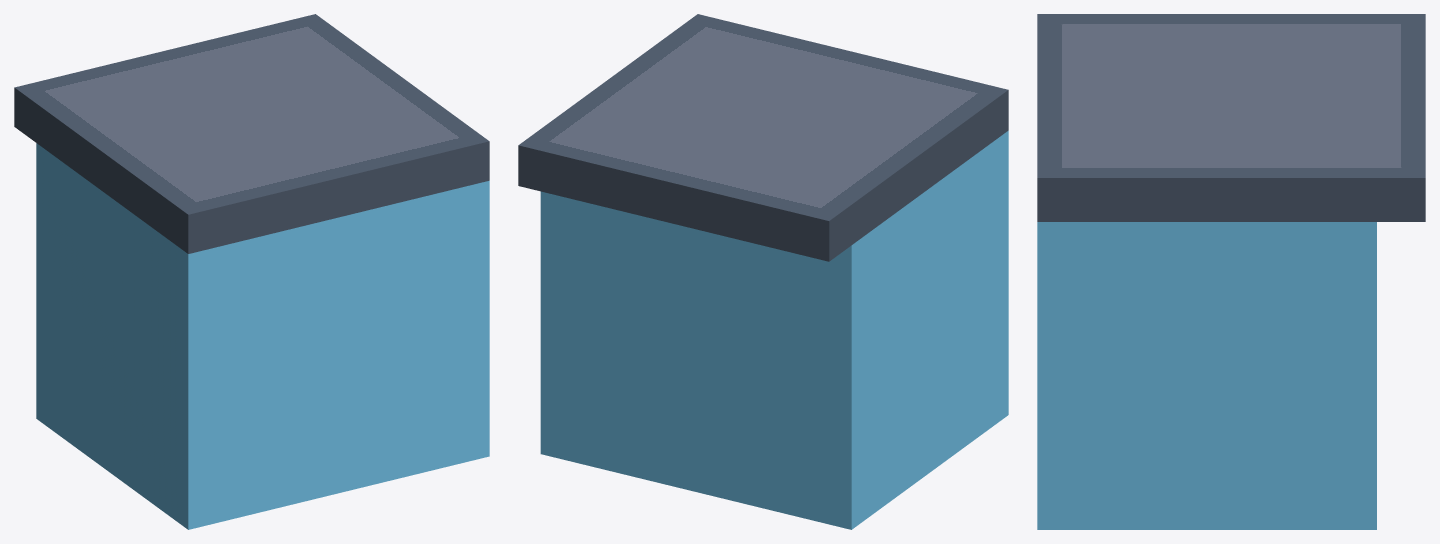
The model's file is counter.gltf.
The picture shows the model from 3 angles, left to right: view 1: azimuth 30°, elevation 25°; view 2: azimuth 150°, elevation 25°; view 3: azimuth 270°, elevation 25°; orthographic projection. The views are drawn at different scales.
Visible parts, largest first — view 1: mesh (×2); view 2: mesh (×2); view 3: mesh (×2).
Boxes of the visible parts, x1,y1,x2,y2 form: mesh (×2): (14, 14, 489, 529); mesh (×2): (518, 14, 1008, 529); mesh (×2): (1037, 14, 1425, 529).
Bounding box in the file's own units: 1 × 1 × 1.
Materials: 1 (1 with a texture image).
